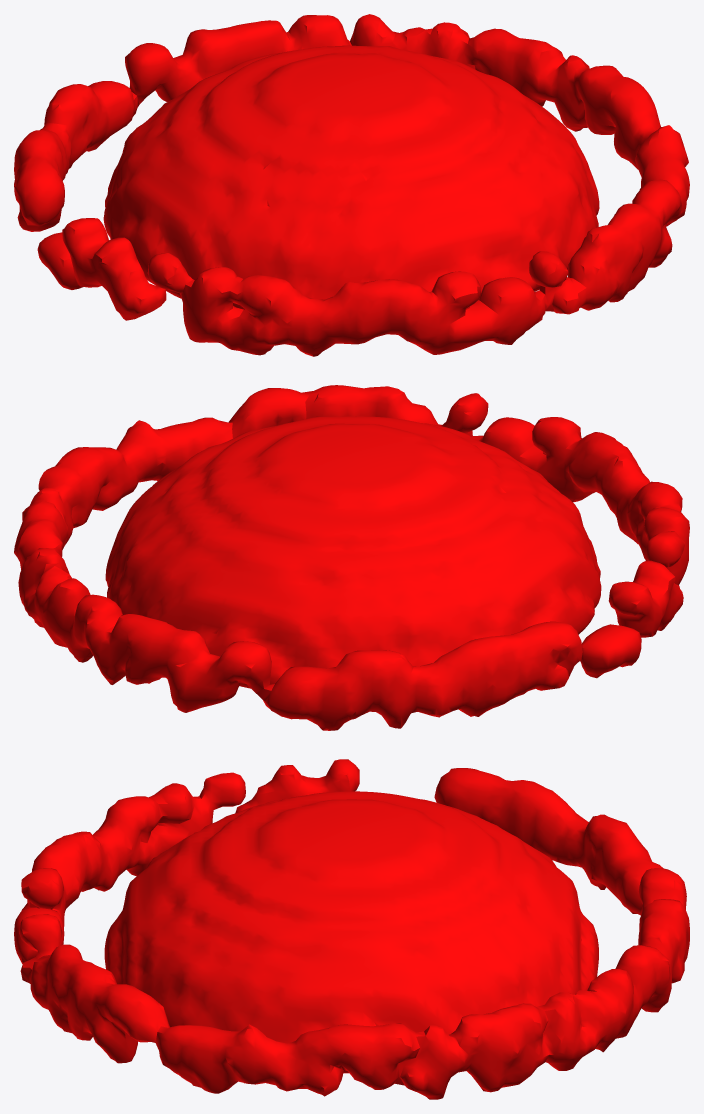
Rendered from bombblast.glb.
3 renders of one model, top to bottom at view 1: azimuth 30°, elevation 25°; view 2: azimuth 150°, elevation 25°; view 3: azimuth 270°, elevation 25°, orthographic.
Size of the model in its own units: 0.8498 by 0.2035 by 0.8504.
